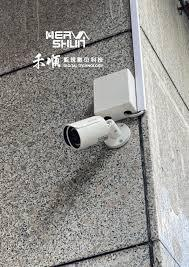Monitor: (61, 107, 131, 162)
